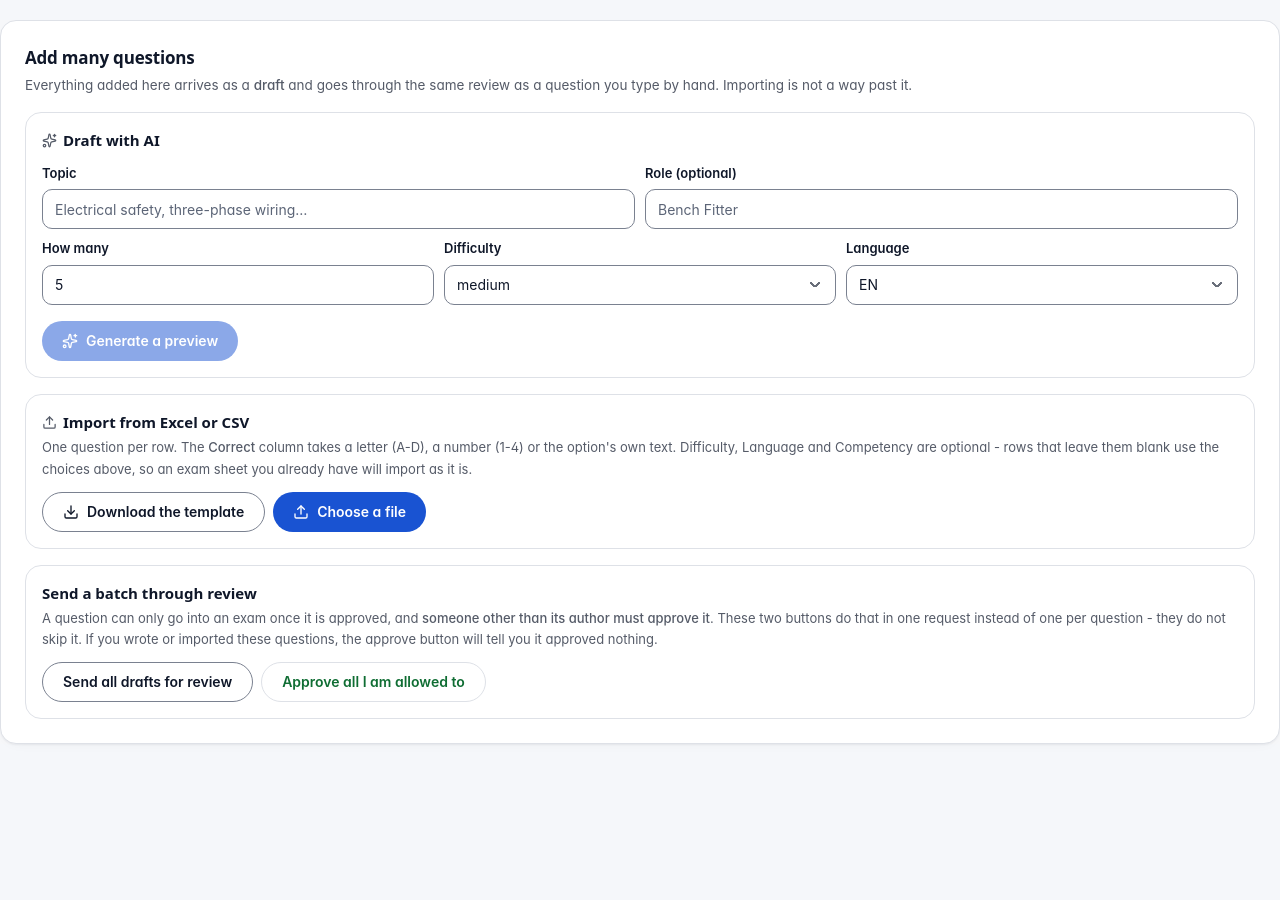
Scenario: BankFillPanel - AI is a preview, not a save › generating stores nothing
This screenshot has width=1280, height=900.
In the field labelled "Topic": {"x": 338, "y": 209} [42,189,635,229], type "Electrical safety"
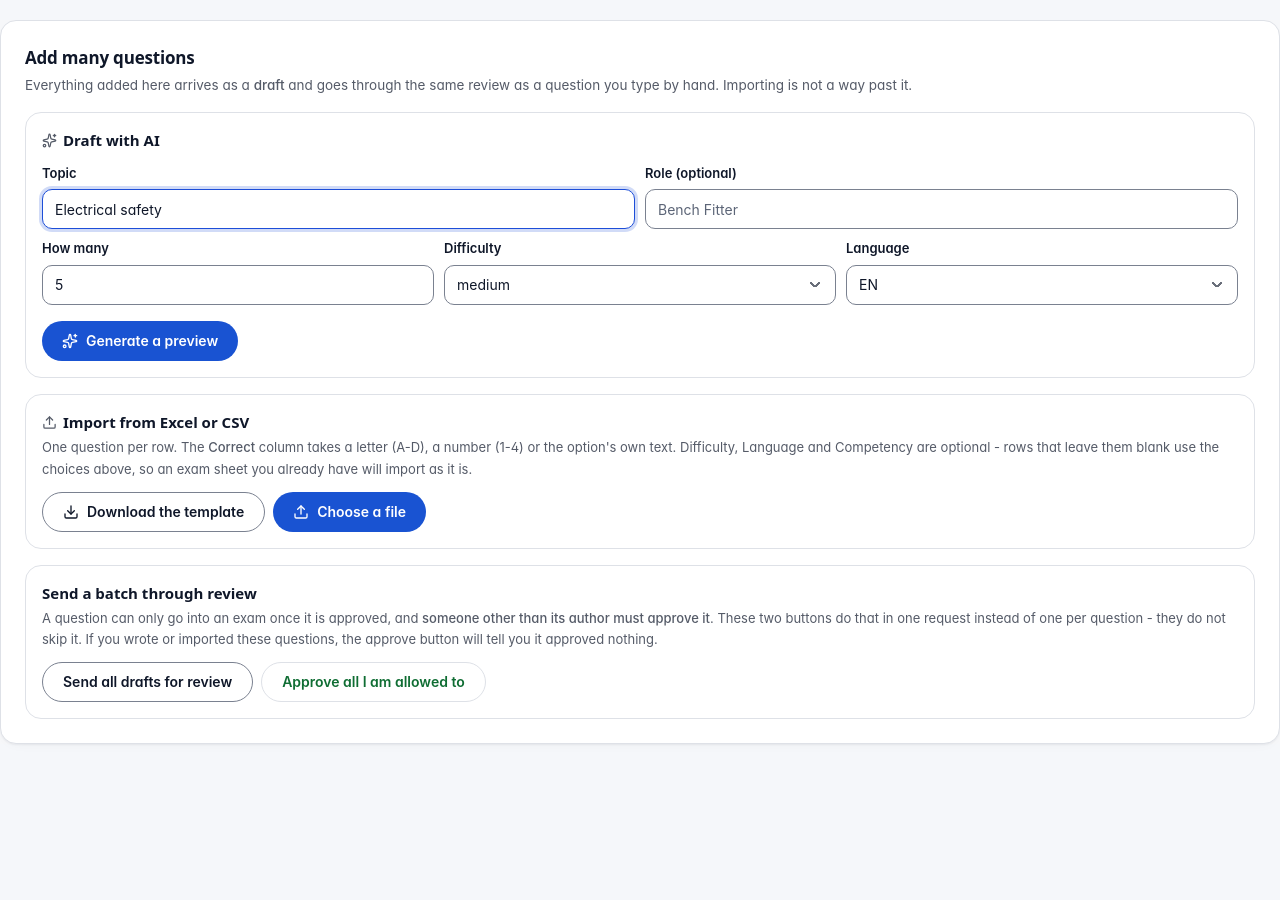
Click the button "Generate a preview": {"x": 140, "y": 341} [42,321,238,361]
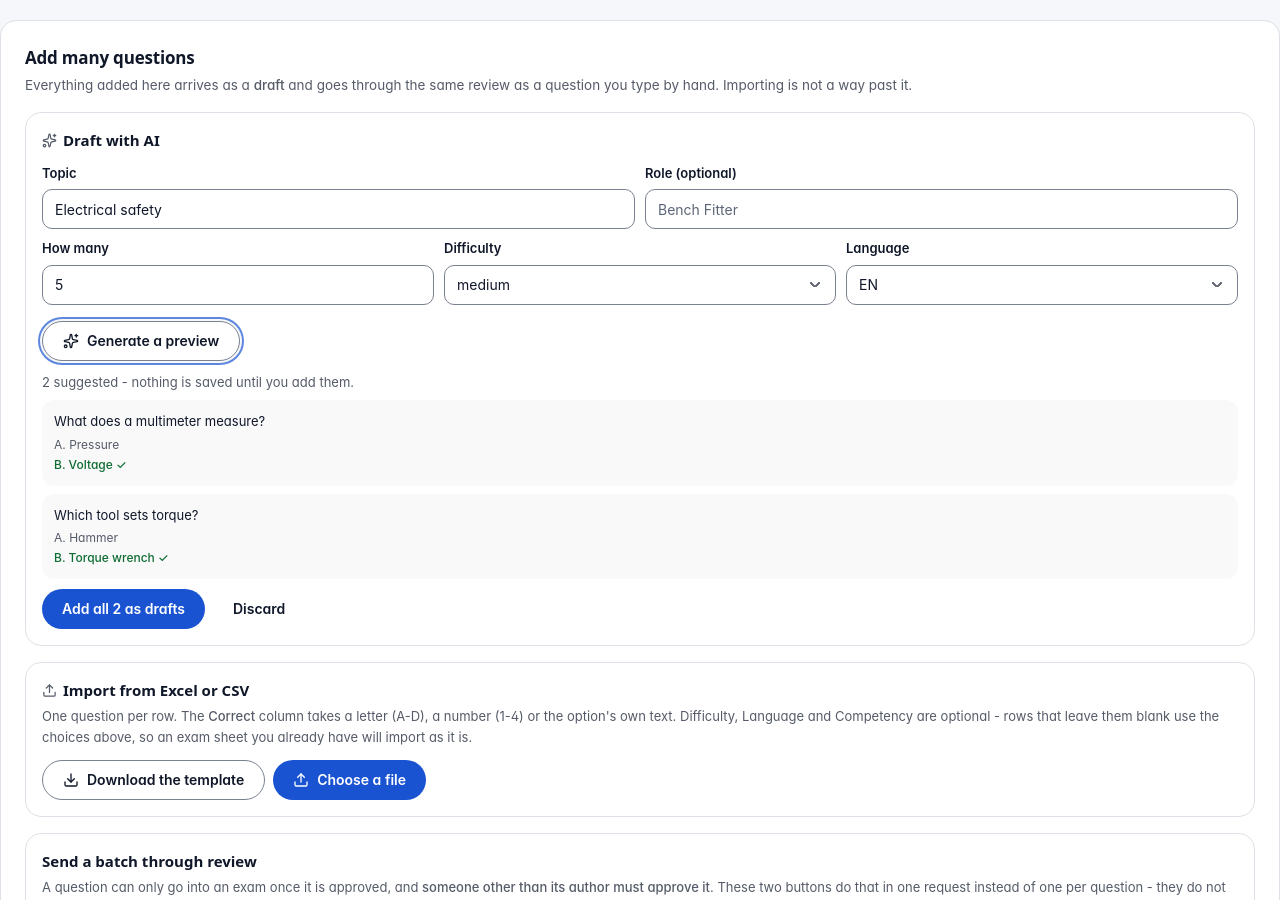
expect the element with test id "bank-ai-preview" is shown: met, box [42,373,1238,629]
